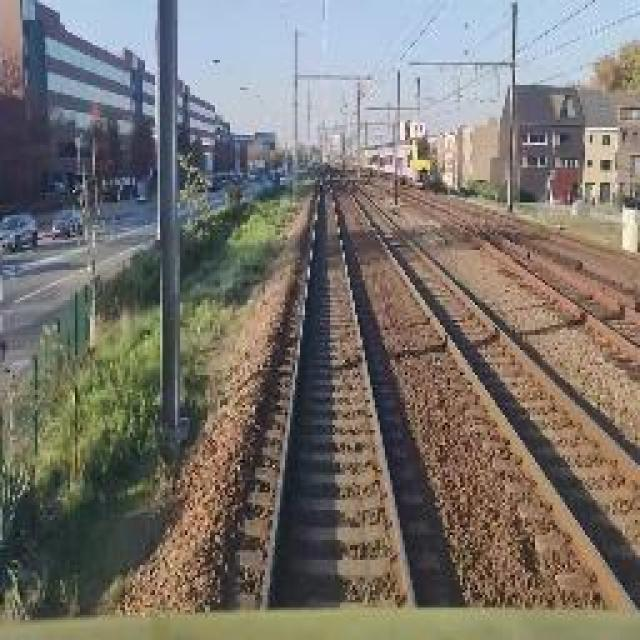rail: (215, 175, 444, 616)
